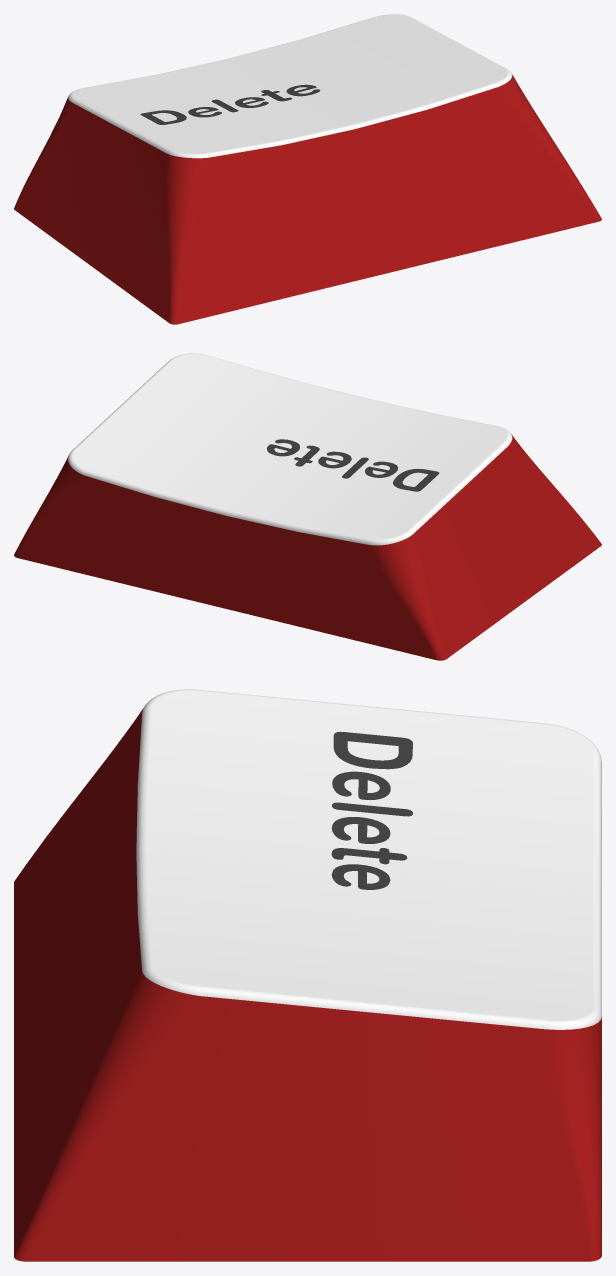
File: Delete 150.fbx
3 renders of one model, top to bottom at view 1: azimuth 30°, elevation 25°; view 2: azimuth 150°, elevation 25°; view 3: azimuth 270°, elevation 25°, orthographic. The views are drawn at different scales.
Visible parts, largest first — view 1: Body1; view 2: Body1; view 3: Body1.
Boxes of the visible parts, x1=… form: Body1: x1=14, y1=14, x2=601, y2=324; Body1: x1=14, y1=353, x2=601, y2=660; Body1: x1=14, y1=689, x2=601, y2=1261.
Size of the model in its own units: 27.81 by 7.89 by 18.
